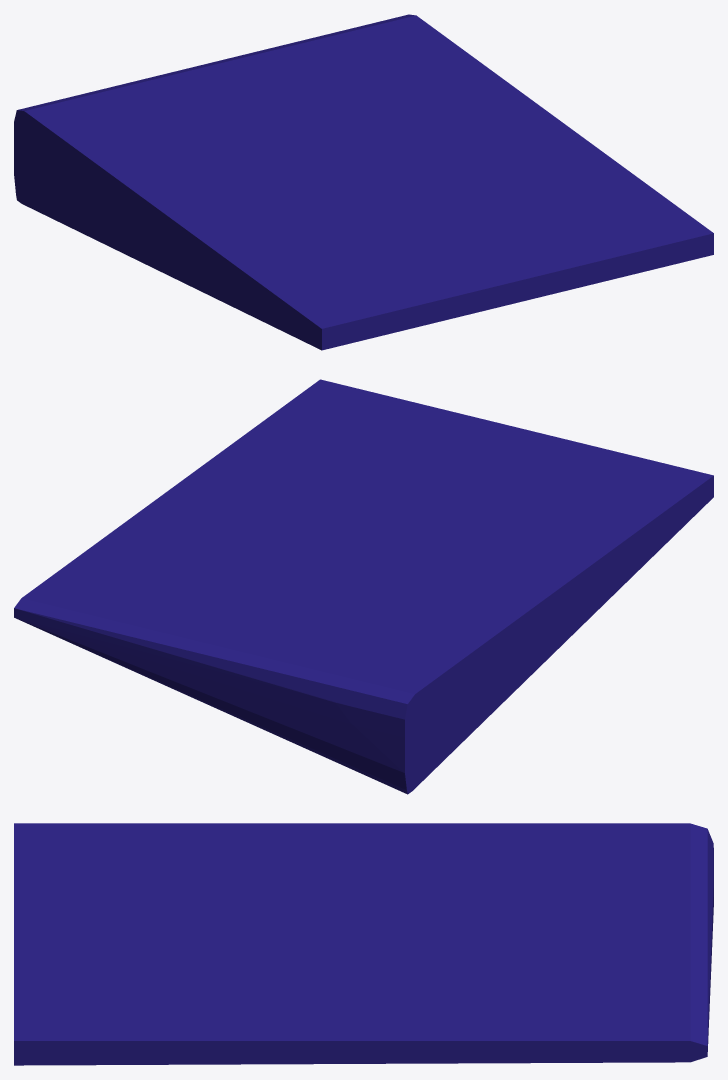
File: right_hip_yaw_link_part_18.obj
3 renders of one model, top to bottom at view 1: azimuth 30°, elevation 25°; view 2: azimuth 150°, elevation 25°; view 3: azimuth 270°, elevation 25°, orthographic. The views are drawn at different scales.
Bounding box in the file's own units: 0.0285 × 0.00658 × 0.0388.
